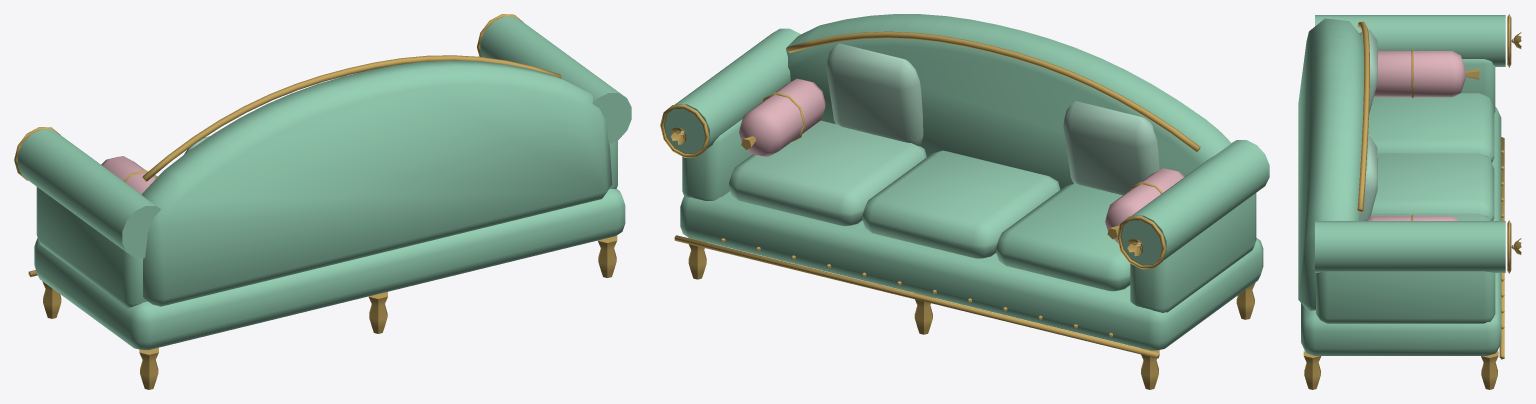
Rendered from sofa_camelback.glb.
3 renders of one model, left to right at view 1: azimuth 30°, elevation 25°; view 2: azimuth 150°, elevation 25°; view 3: azimuth 270°, elevation 25°, orthographic. The views are drawn at different scales.
Parts seen in each view (by area): view 1: sofa_camelback; view 2: sofa_camelback; view 3: sofa_camelback.
Part boxes in pixels (box(x1,y1,x2,y2)): sofa_camelback: box(14, 14, 631, 389); sofa_camelback: box(660, 14, 1269, 389); sofa_camelback: box(1298, 14, 1521, 389).
Size of what is drawn, in the model's own units: 2.3 by 1.05 by 0.95.
